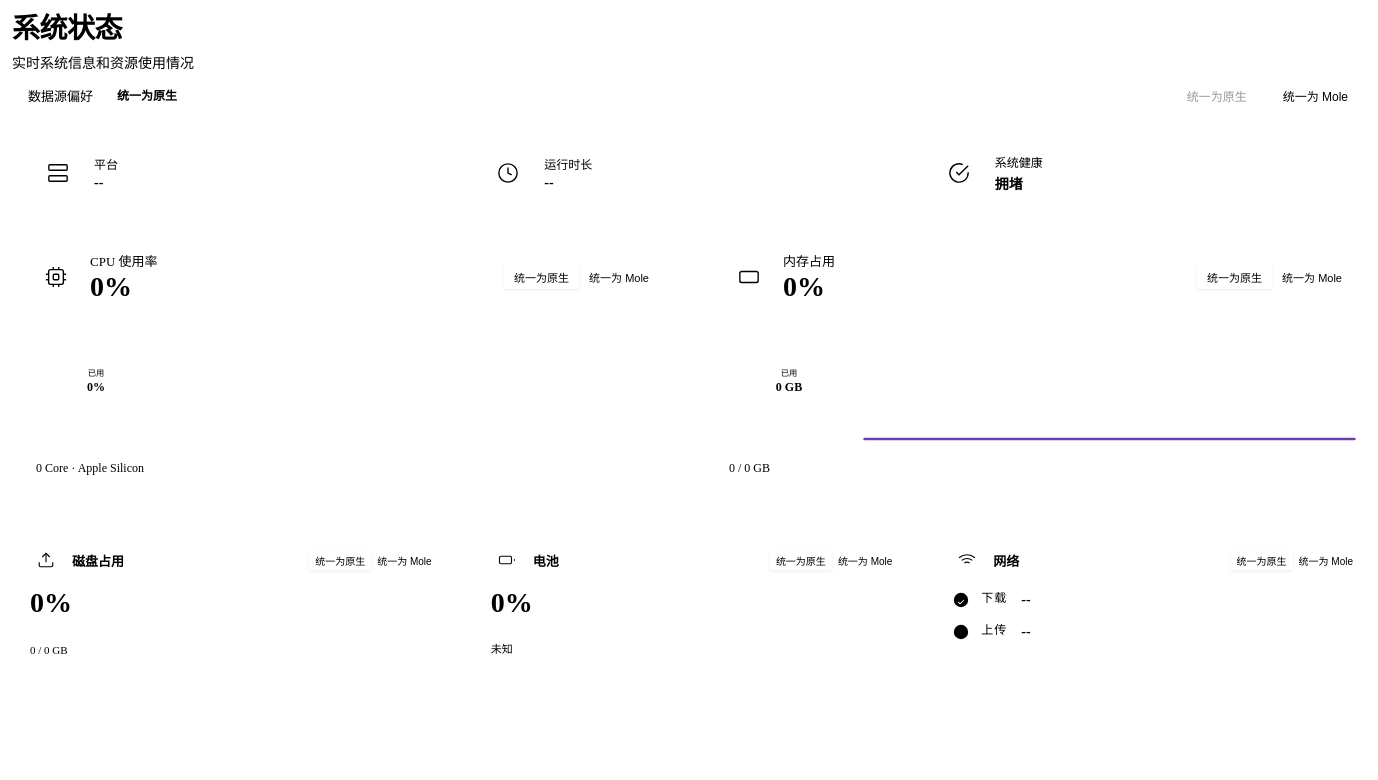
Test case: StatusView 组件 › 深层交互测试 › applyStatusData › 双源 + network=mole 时 network 取 data.mole
This screenshot has width=1378, height=780.
Step 1. Click the button with class "segmented-btn" in the row of "网络" → [1326, 560], box [1292,551,1359,570]
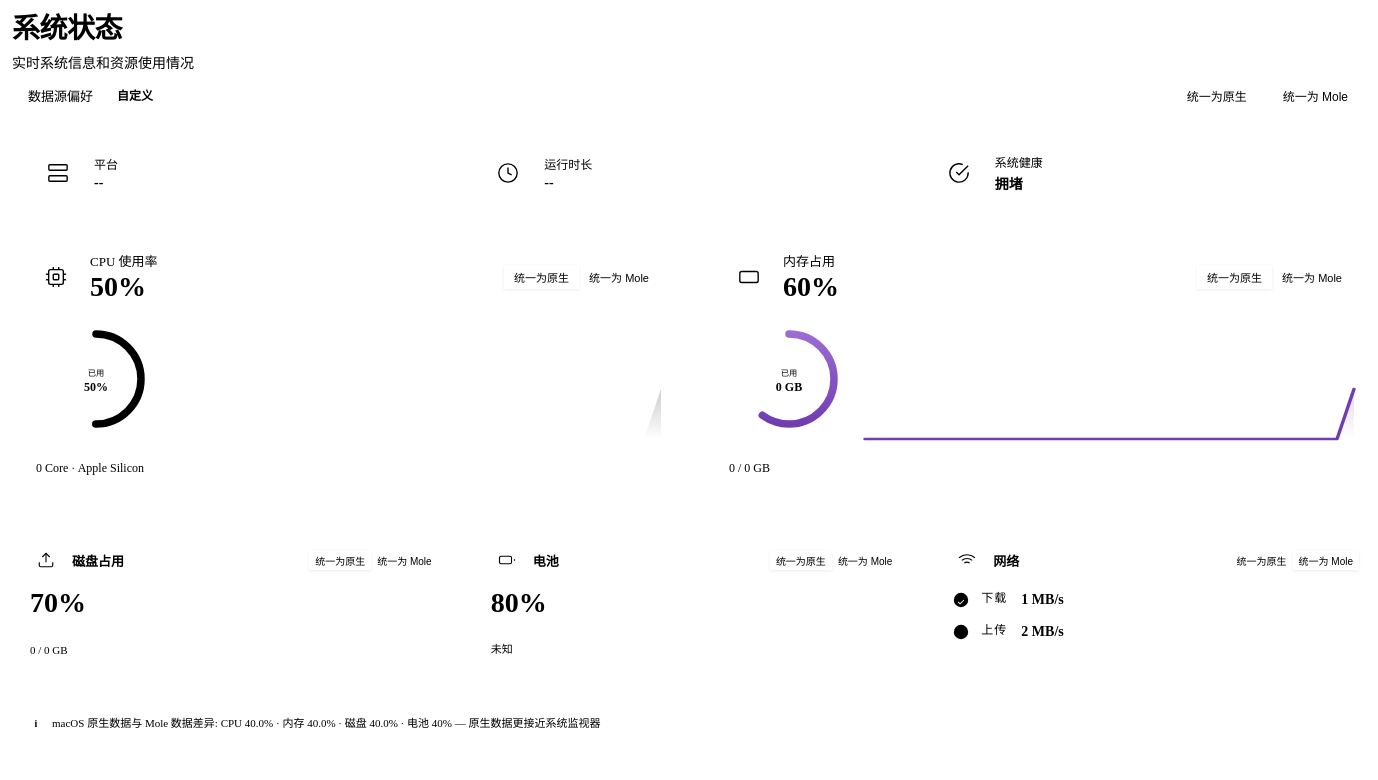
Expected: the element with class "mini-card" shows "1 MB/s", [1021,592,1064,607]
Expected: the element with class "mini-card" shows "2 MB/s", [1021,624,1064,639]
